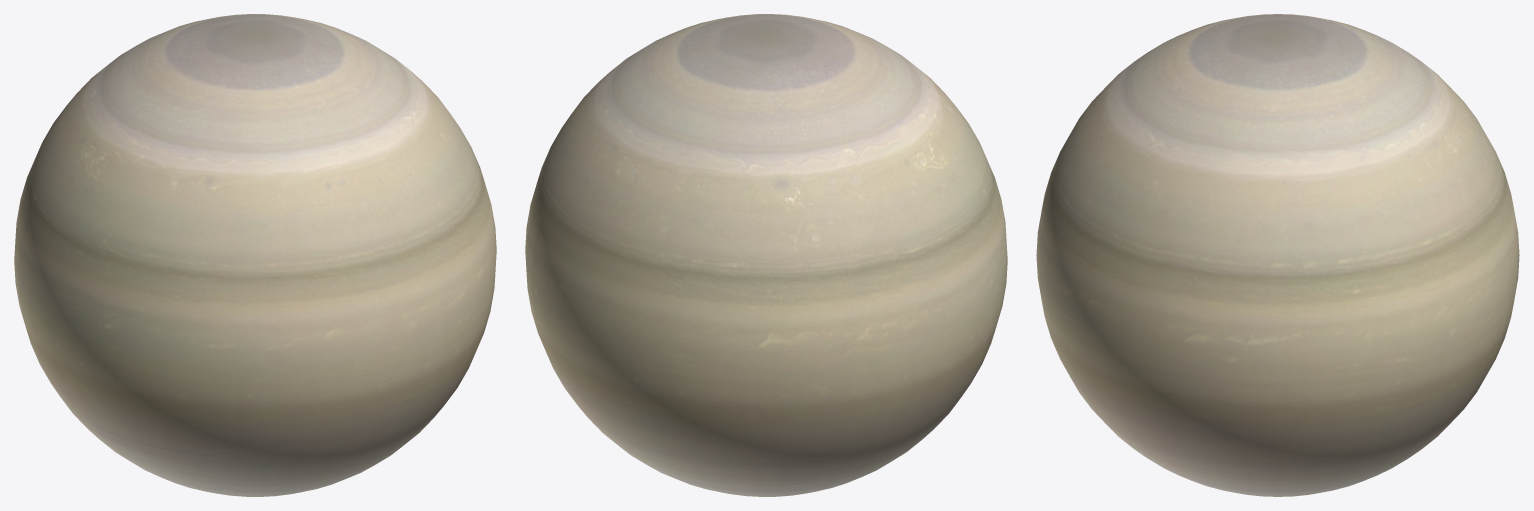
File: Saturn.obj
3 renders of one model, left to right at view 1: azimuth 30°, elevation 25°; view 2: azimuth 150°, elevation 25°; view 3: azimuth 270°, elevation 25°, orthographic.
Bounding box in the file's own units: 2 × 2 × 2.
1 material, 1 textured.
